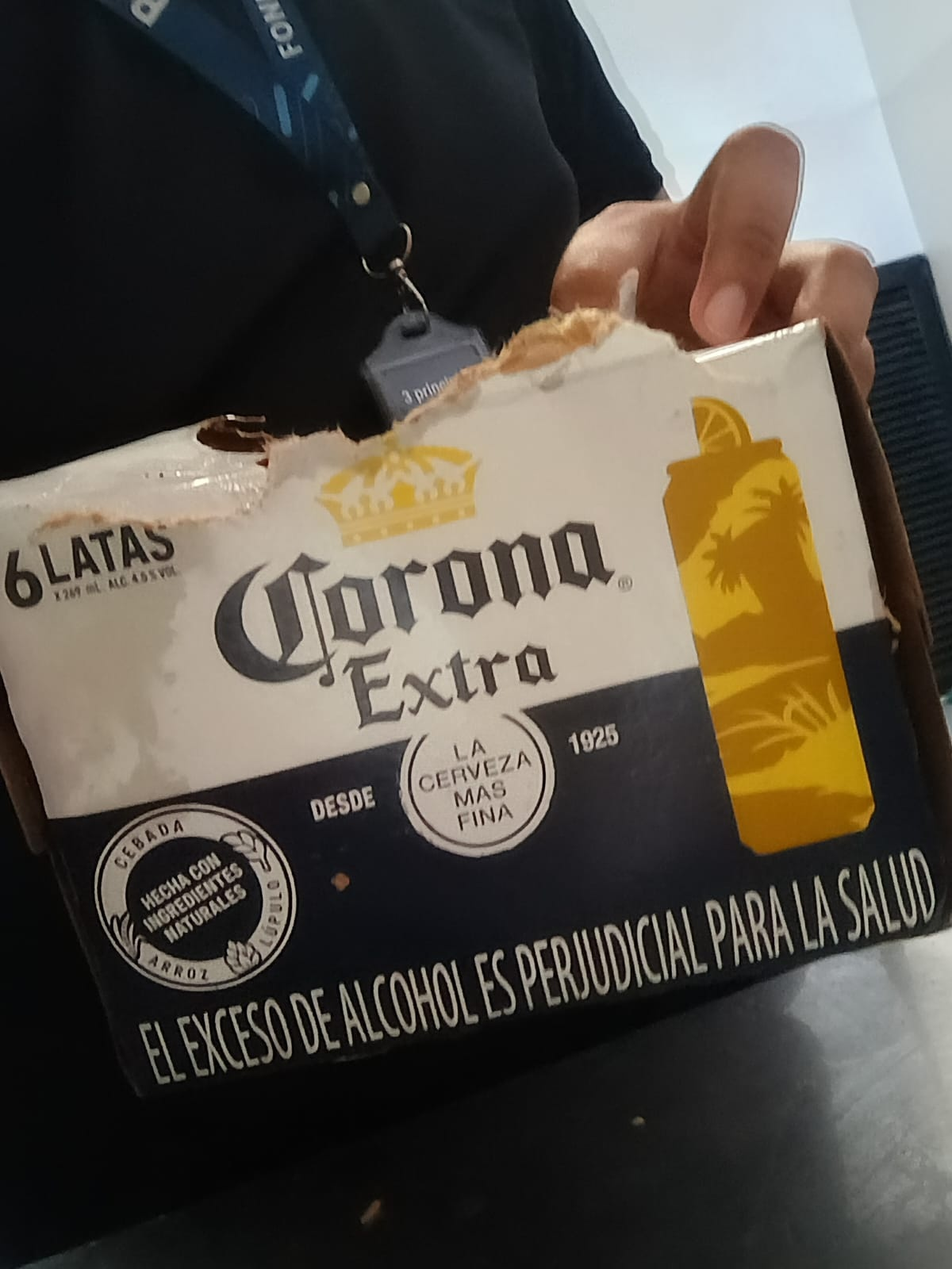Carton: (0, 313, 951, 1106)
